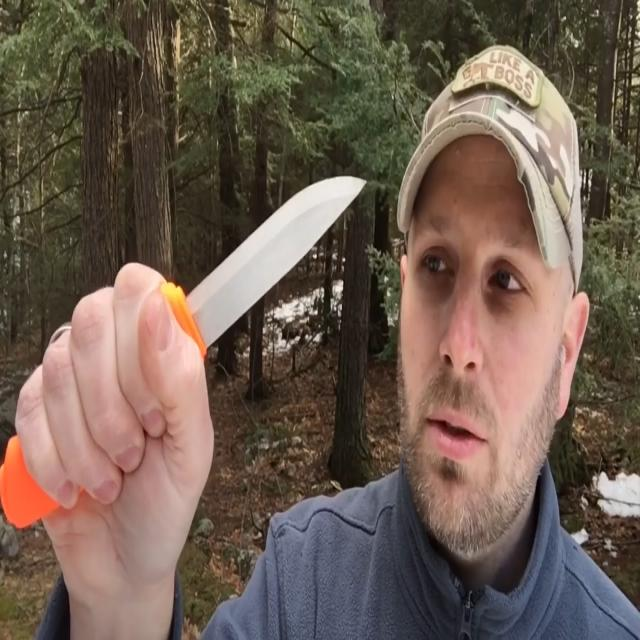knife: (2, 171, 372, 534)
